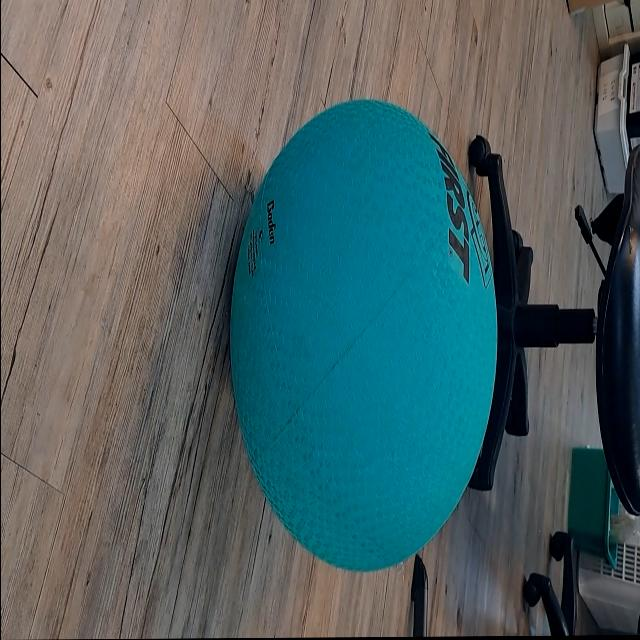ALGAE: (227, 95, 499, 575)
